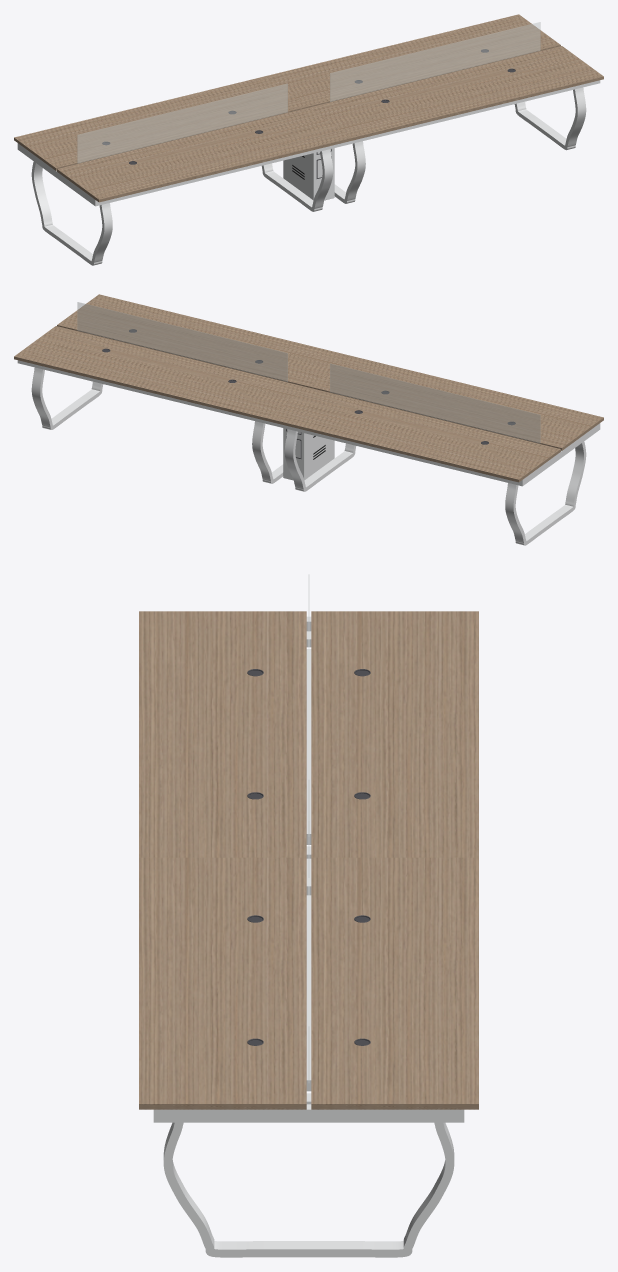
File: desk_table.glb
3 renders of one model, top to bottom at view 1: azimuth 30°, elevation 25°; view 2: azimuth 150°, elevation 25°; view 3: azimuth 270°, elevation 25°, orthographic. The views are drawn at different scales.
Parts seen in each view (by area): view 1: Top_U0_B, Top_U1_B, Top_U0_A, Top_U1_A, Divider_U0, Divider_U1, ApronFrame, Loop_EndL, SpineColumn, Loop_JuncL, Loop_EndR, Loop_JuncR; view 2: Top_U0_A, Top_U1_A, Top_U0_B, Top_U1_B, Divider_U0, Divider_U1, ApronFrame, Loop_EndL, SpineColumn, Loop_JuncL, Loop_EndR, Loop_JuncR; view 3: Top_U1_A, Top_U1_B, Top_U0_A, Top_U0_B, Loop_EndR, ApronFrame, CableTray_U1, CableTray_U0.
Part boxes in pixels (x1=…): Top_U0_B: x1=57, y1=107, x2=351, y2=202; Top_U1_B: x1=310, y1=46, x2=603, y2=140; Top_U0_A: x1=14, y1=76, x2=308, y2=170; Top_U1_A: x1=267, y1=14, x2=560, y2=107; Divider_U0: x1=77, y1=83, x2=287, y2=163; Divider_U1: x1=330, y1=22, x2=540, y2=101; ApronFrame: x1=17, y1=80, x2=600, y2=206; Loop_EndL: x1=31, y1=161, x2=112, y2=265; SpineColumn: x1=283, y1=148, x2=334, y2=200; Loop_JuncL: x1=261, y1=149, x2=333, y2=211; Loop_EndR: x1=514, y1=87, x2=586, y2=150; Loop_JuncR: x1=334, y1=141, x2=365, y2=203; Top_U0_A: x1=266, y1=387, x2=560, y2=482; Top_U1_A: x1=14, y1=326, x2=307, y2=420; Top_U0_B: x1=309, y1=356, x2=603, y2=450; Top_U1_B: x1=57, y1=294, x2=350, y2=387; Divider_U0: x1=330, y1=363, x2=540, y2=443; Divider_U1: x1=77, y1=302, x2=287, y2=381; ApronFrame: x1=17, y1=360, x2=600, y2=486; Loop_EndL: x1=505, y1=441, x2=586, y2=545; SpineColumn: x1=283, y1=428, x2=334, y2=480; Loop_JuncL: x1=284, y1=429, x2=356, y2=491; Loop_EndR: x1=31, y1=367, x2=103, y2=429; Loop_JuncR: x1=252, y1=421, x2=283, y2=483; Top_U1_A: x1=311, y1=857, x2=478, y2=1109; Top_U1_B: x1=139, y1=857, x2=306, y2=1109; Top_U0_A: x1=311, y1=611, x2=478, y2=857; Top_U0_B: x1=139, y1=611, x2=306, y2=857; Loop_EndR: x1=163, y1=1093, x2=454, y2=1257; ApronFrame: x1=153, y1=616, x2=464, y2=1122; CableTray_U1: x1=306, y1=895, x2=311, y2=1091; CableTray_U0: x1=306, y1=649, x2=311, y2=844.
Bounding box in the file's own units: 4.8 × 1.01 × 1.4.
5 materials, 1 textured.
